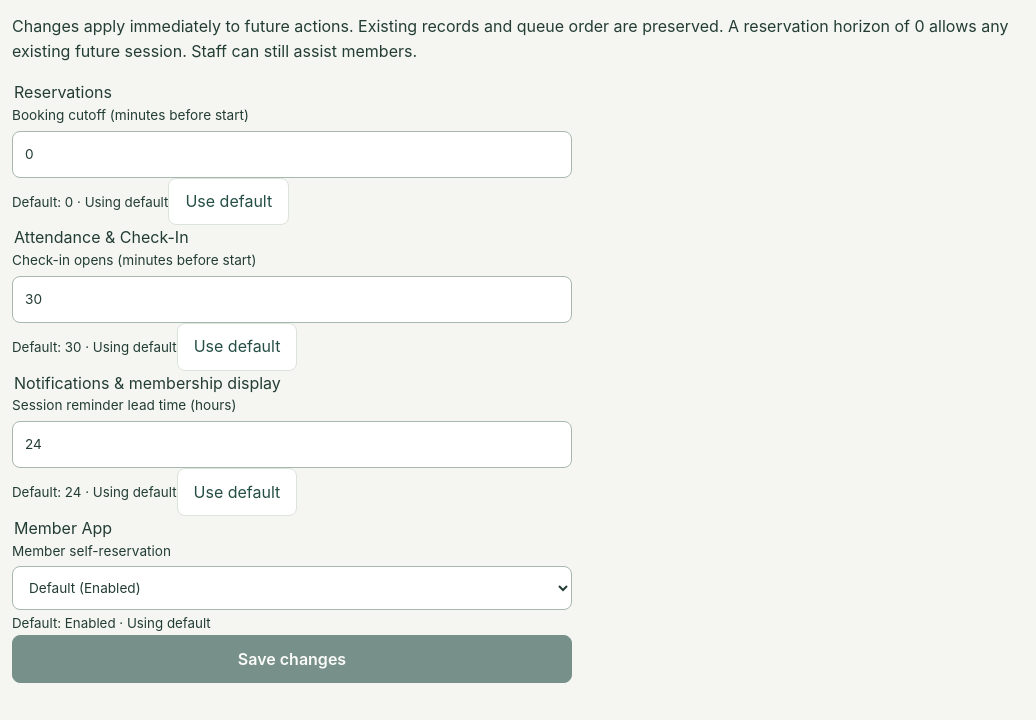
Test: loads sections, defaults and bounds and confirms only the changed typed fields
Expected: the element "Reservations" is shown, [12, 80, 572, 225]
Expected: the element "Attendance & Check-In" is shown, [12, 225, 572, 370]
Select "Disabled" in the dropdown labelled "Member self-reservation" at point(292, 588), box [12, 566, 572, 610]
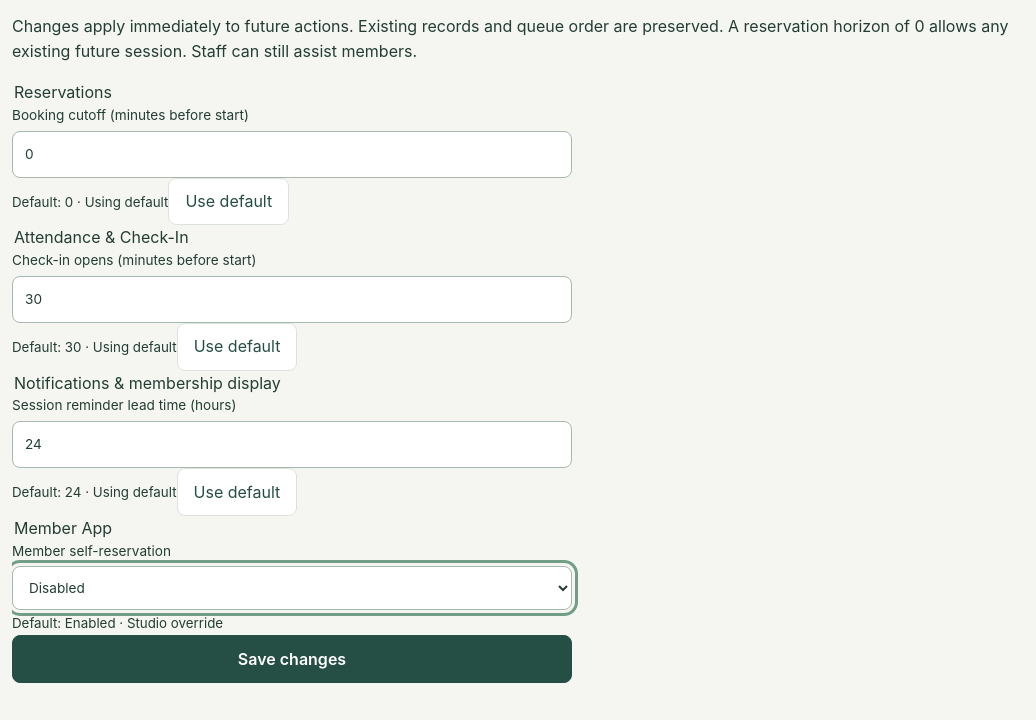
Click the button "Save changes" at point(292, 659), box [12, 635, 572, 683]
(page scrolled)
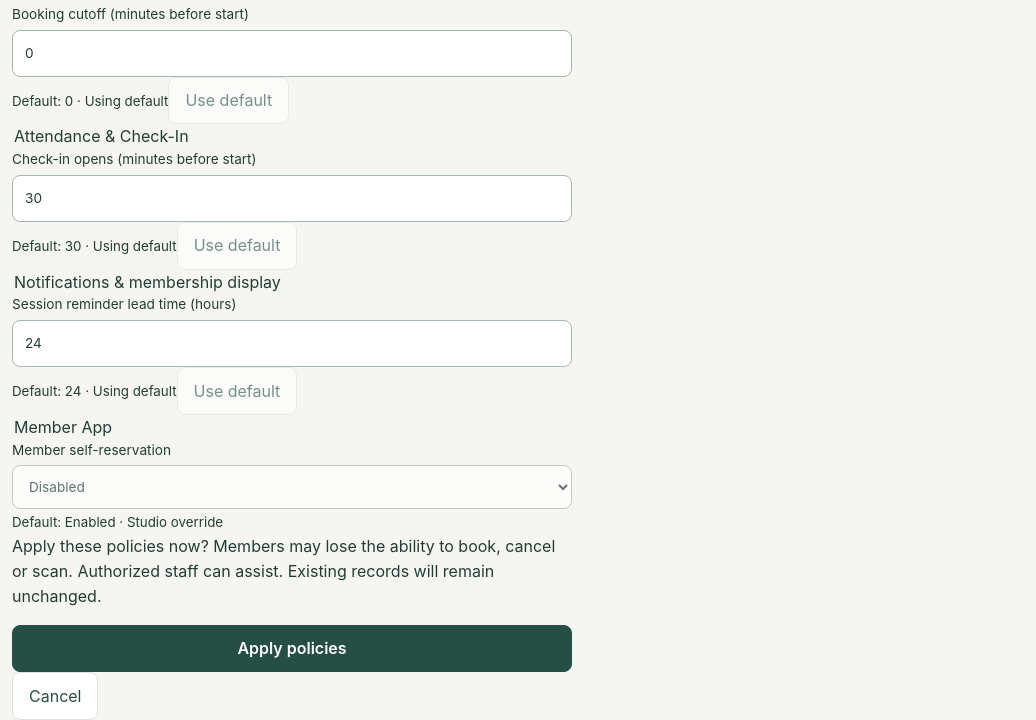
Click the button "Apply policies" at point(292, 648), box [12, 625, 572, 672]
(page scrolled)
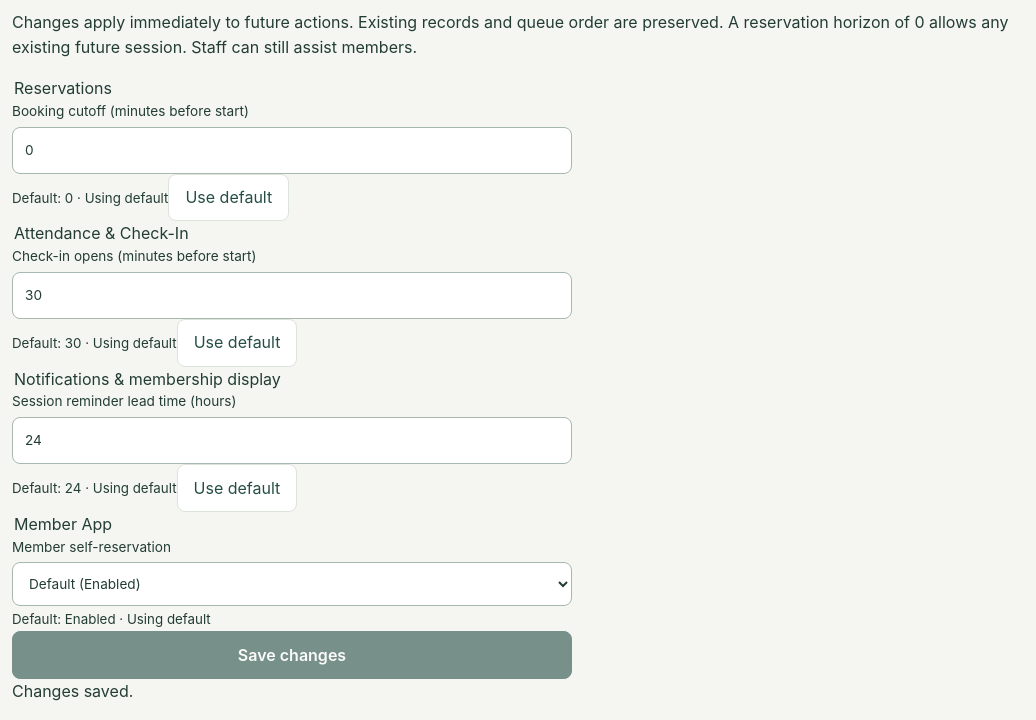
Expected: the message reads "Changes saved.", [12, 681, 133, 701]
